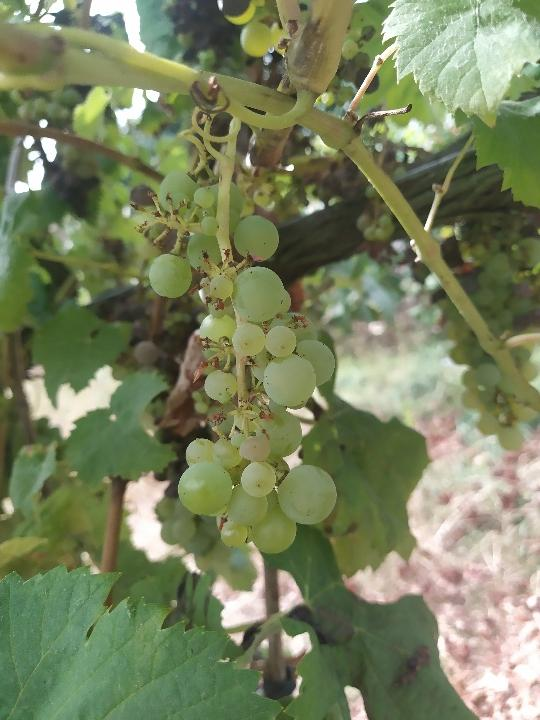grape: (145, 168, 340, 558)
